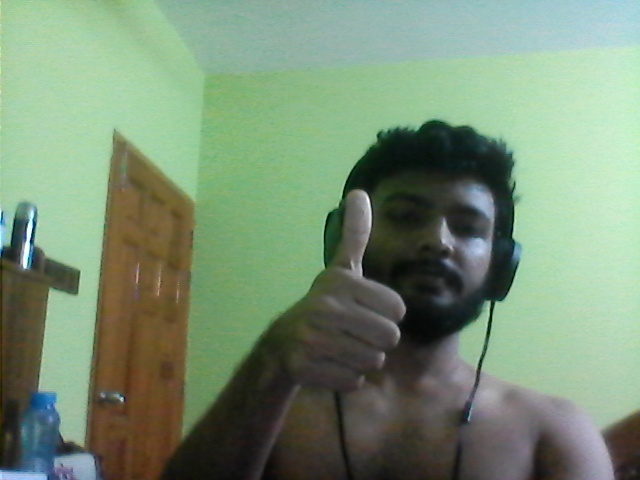Yes: (284, 188, 402, 395)
